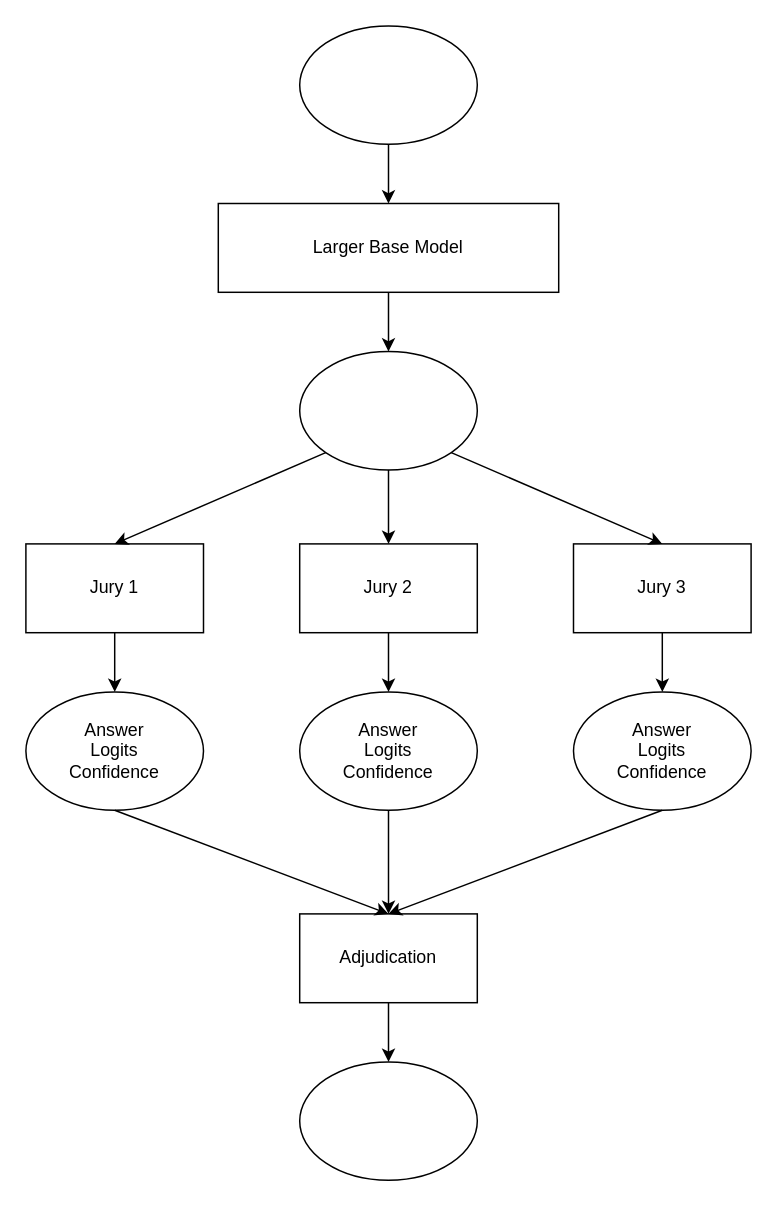
This 777x1206 diagram has some shape labels left out. The shapes that lost their labels are listed below. From the top down, each one's box as (x1, y1, x2, y2) in pixels, then its label:
(298, 24, 477, 144): Question
(298, 350, 477, 470): Question Answer
(298, 1060, 477, 1180): Verdict
